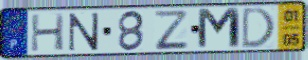8: (117, 9, 146, 53)
D: (240, 6, 277, 50)
H: (29, 12, 67, 53)
M: (196, 6, 243, 52)
N: (67, 12, 101, 53)
Z: (152, 9, 190, 51)
